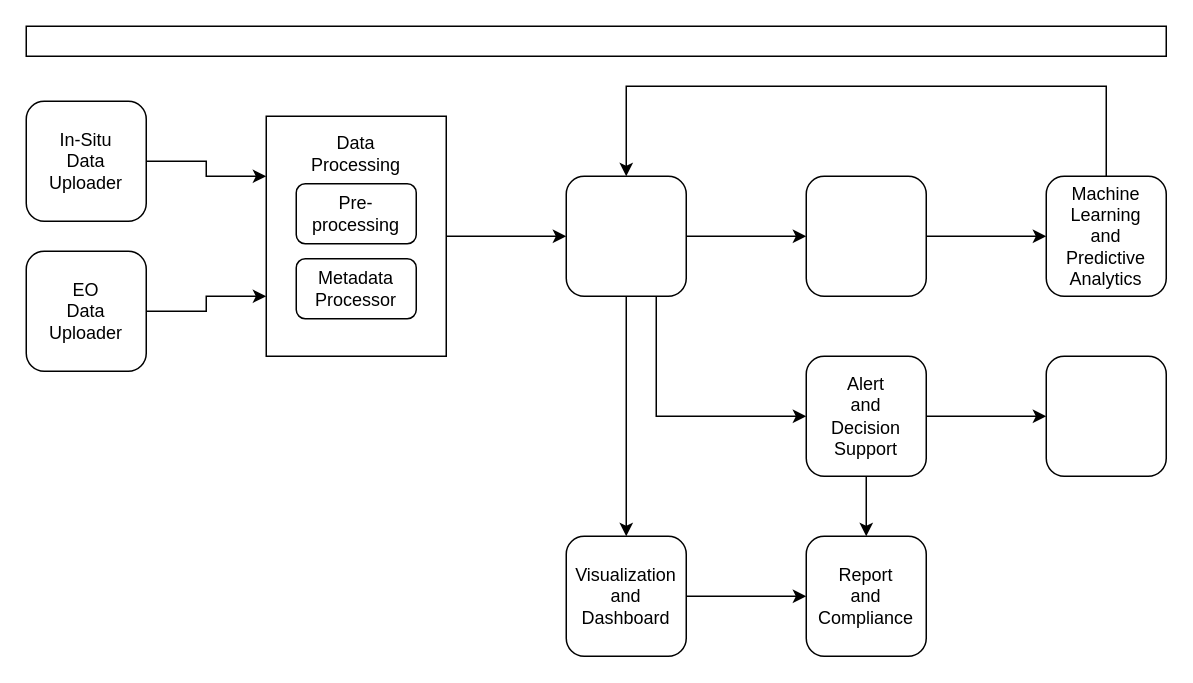
This 1193x683 diagram has some shape labels left out. The shapes that lost their labels are listed below. From the top down, each one's centre as x and y in pixels, then its label:
At point (595, 40): "Quality Control and Logging Layer".
At point (625, 235): "Spatial Data Infrastructure".
At point (865, 235): "Data Aggregation".
At point (1105, 415): "Notifications".
